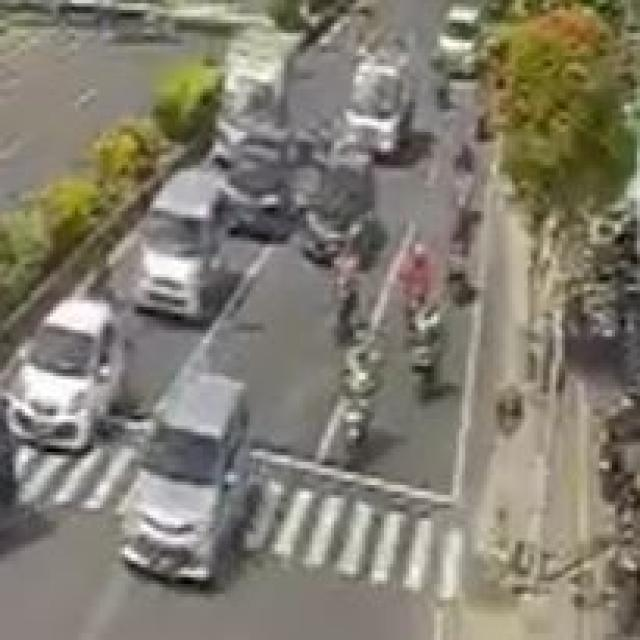car: (126, 386, 262, 595), (16, 287, 137, 459), (131, 168, 247, 325), (214, 16, 309, 170), (301, 142, 382, 279), (345, 41, 425, 160)
motorbike: (318, 361, 408, 467), (401, 300, 459, 416)
